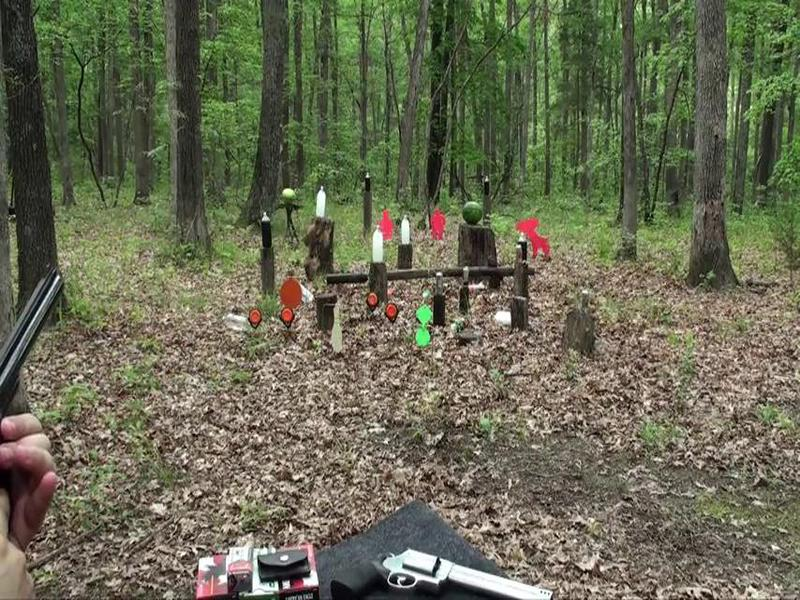Revolver: (327, 524, 547, 600)
